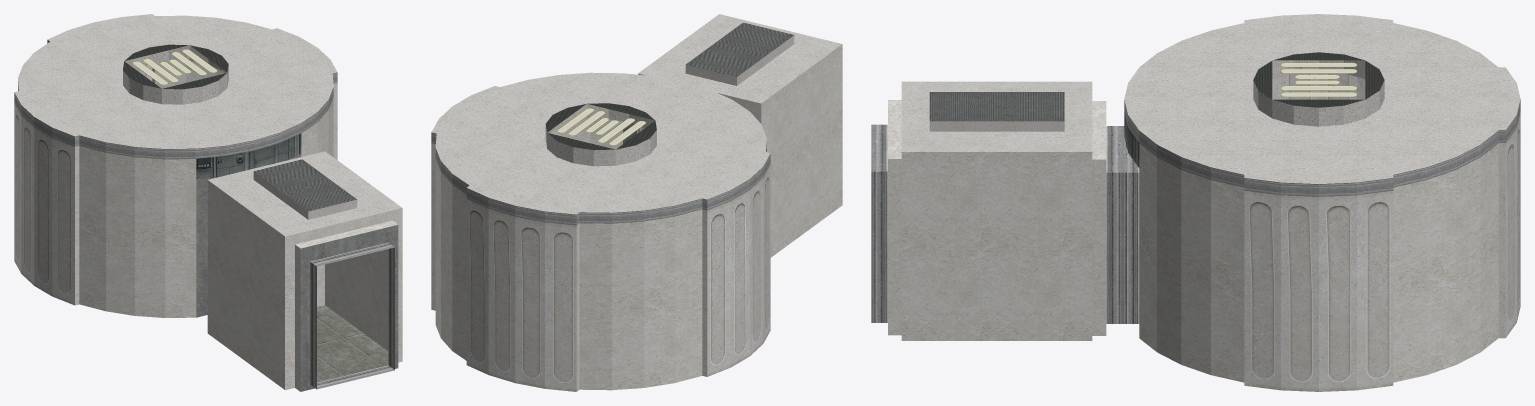
File: ply_corl_house_lg_s01_fp1_r7_room7_mesh_r7.fbx
The picture shows the model from 3 angles, left to right: view 1: azimuth 30°, elevation 25°; view 2: azimuth 150°, elevation 25°; view 3: azimuth 270°, elevation 25°; orthographic projection. The views are drawn at different scales.
Parts seen in each view (by area): view 1: mesh_node; view 2: mesh_node; view 3: mesh_node.
Boxes of the visible parts, x1,y1,x2,y2 form: mesh_node: (14,14,402,391); mesh_node: (431,14,842,391); mesh_node: (871,14,1520,391).
Size of the model in its own units: 7.24 by 4.5 by 11.68.
